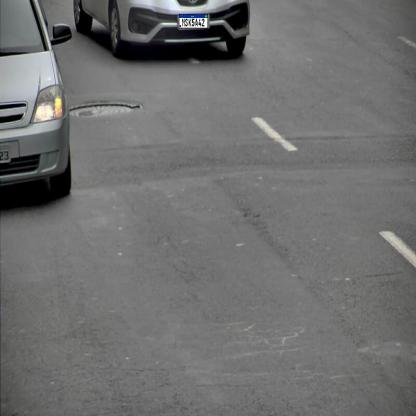PlacaM: (179, 14, 208, 28)
